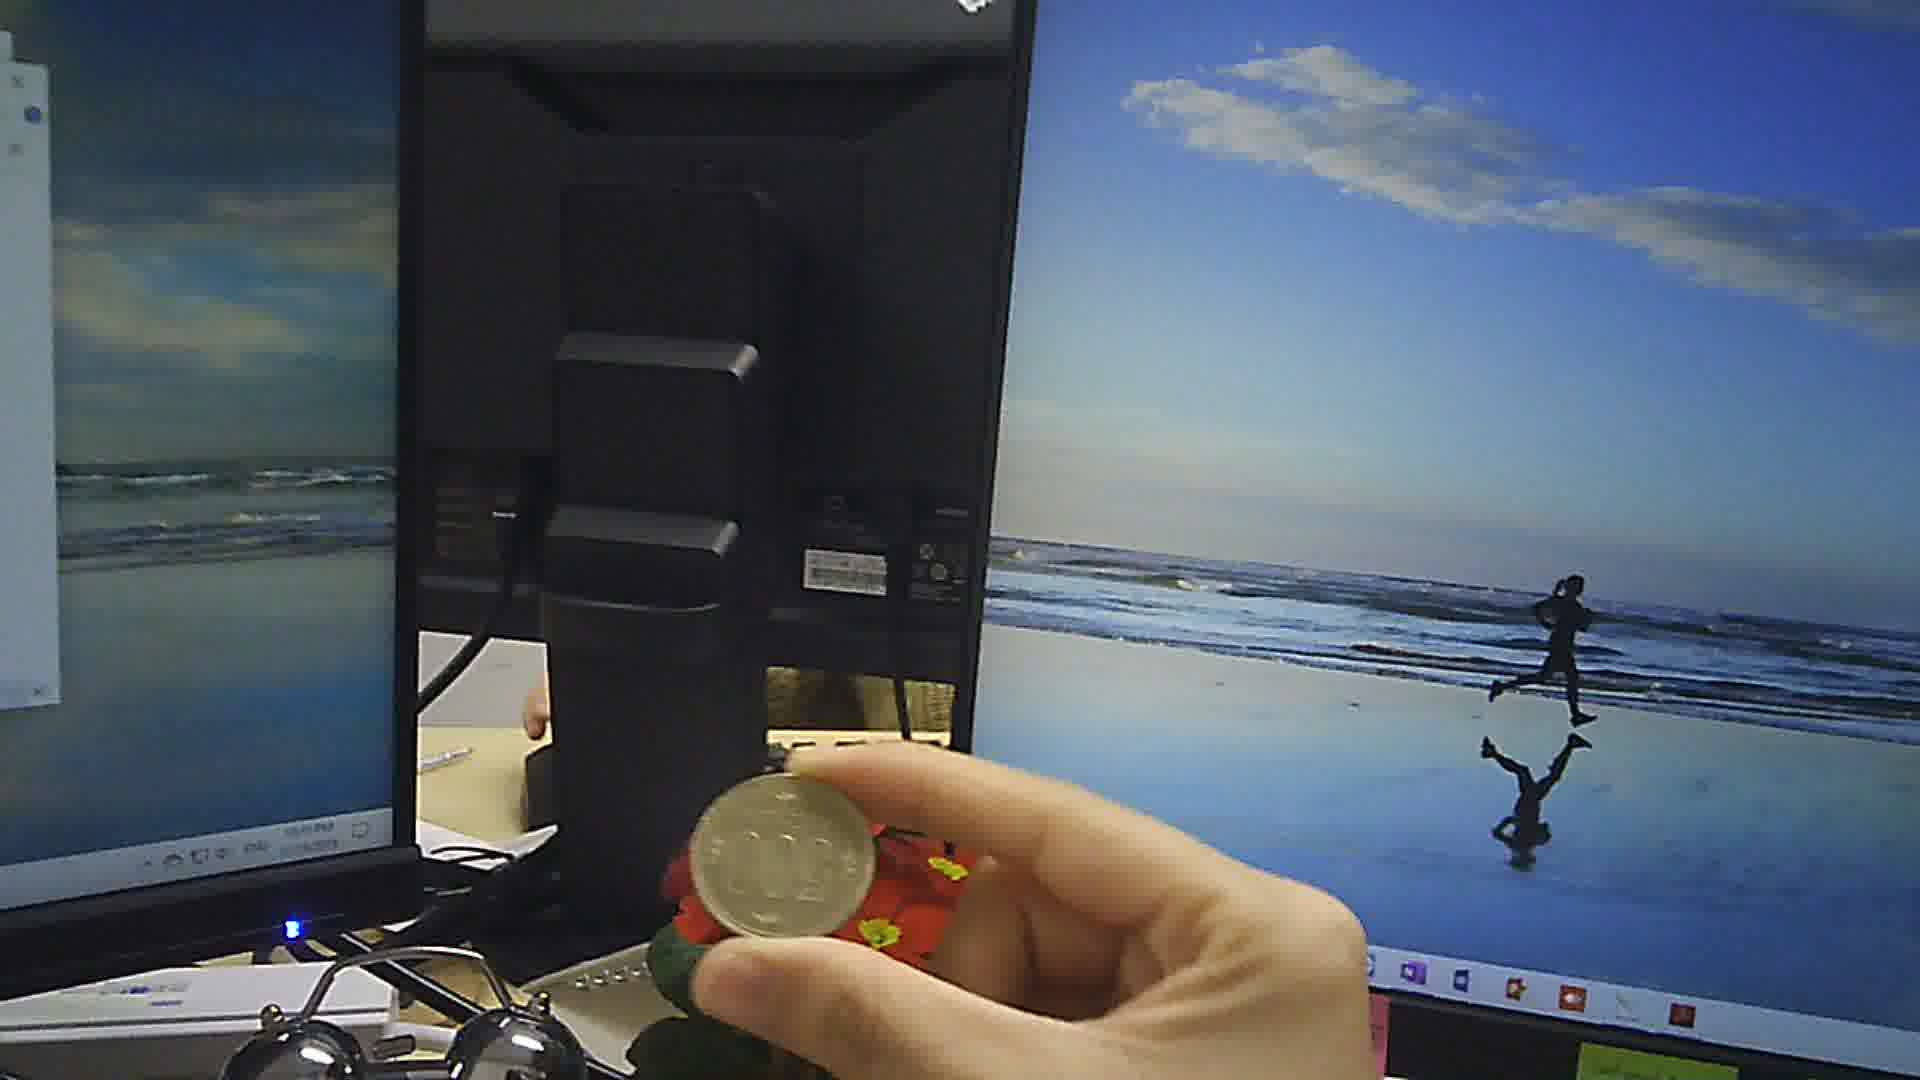500 Yen: (688, 777, 876, 938)
